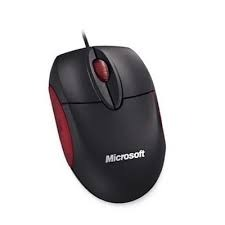mouse: (46, 48, 182, 205)
